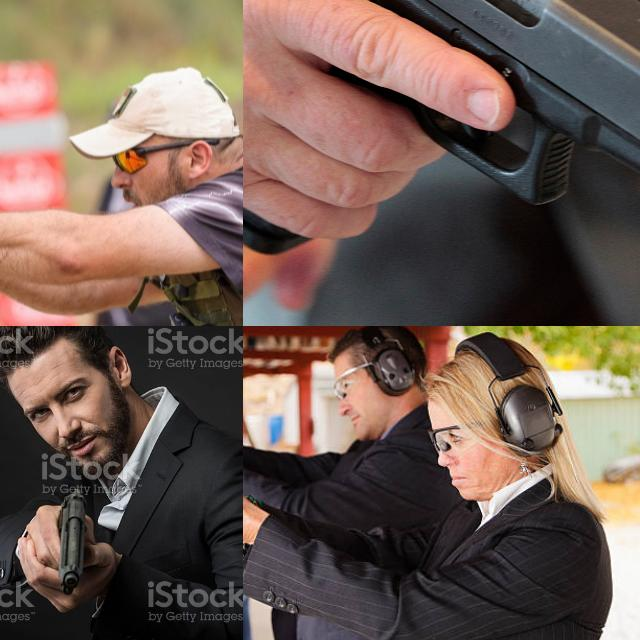handgun: (243, 0, 640, 258), (48, 486, 92, 600), (0, 177, 64, 242), (243, 444, 295, 512), (243, 393, 284, 441)
